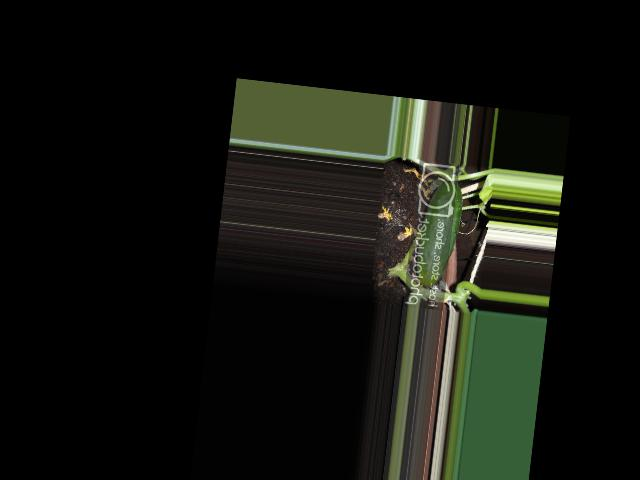cucumber: (413, 178, 464, 289)
